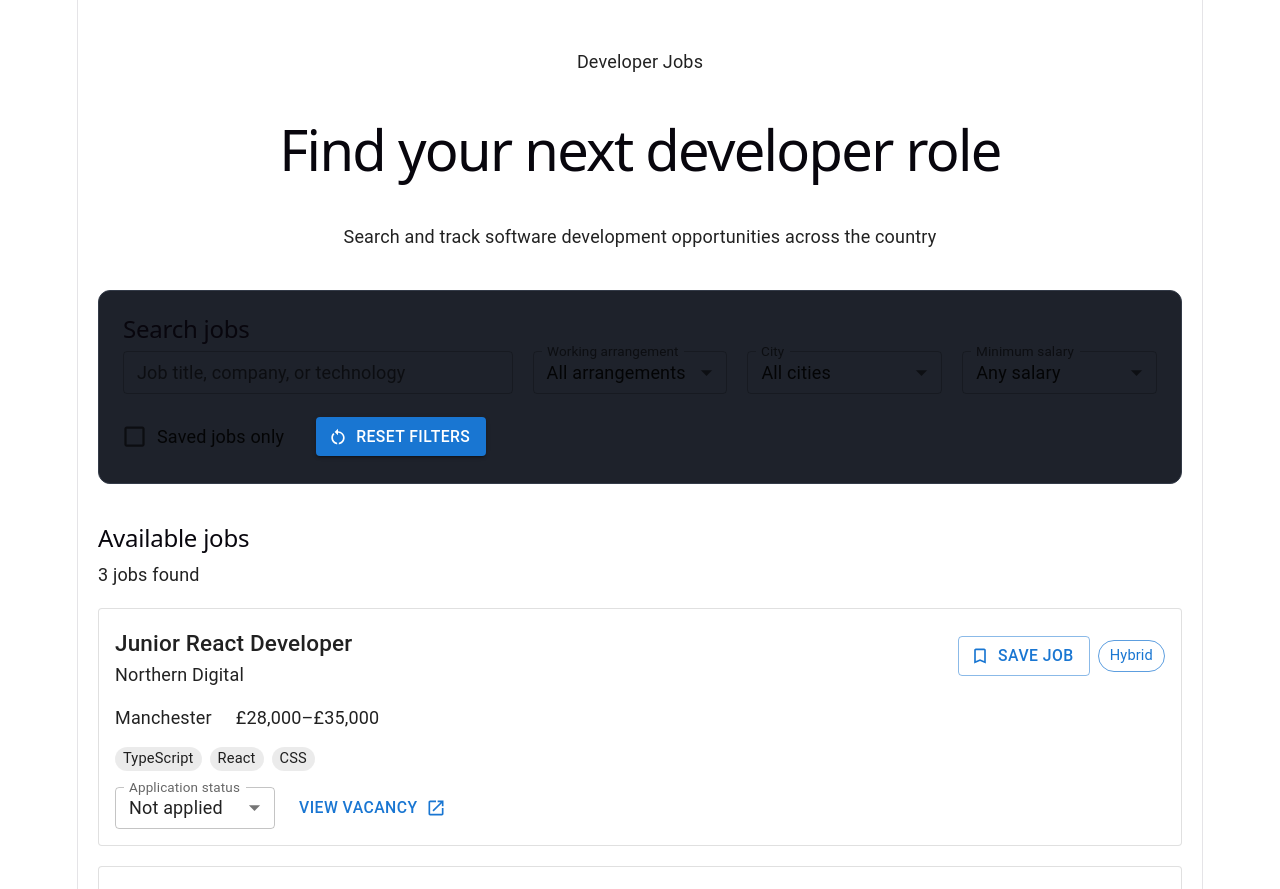
it: App › filters jobs using a keyword
Check: the text "3 jobs found" is shown, box [98,564,200,584]
In the search field labelled "Job title, company, or technology": (318, 373) [123,351,513,394], type "JavaScript"
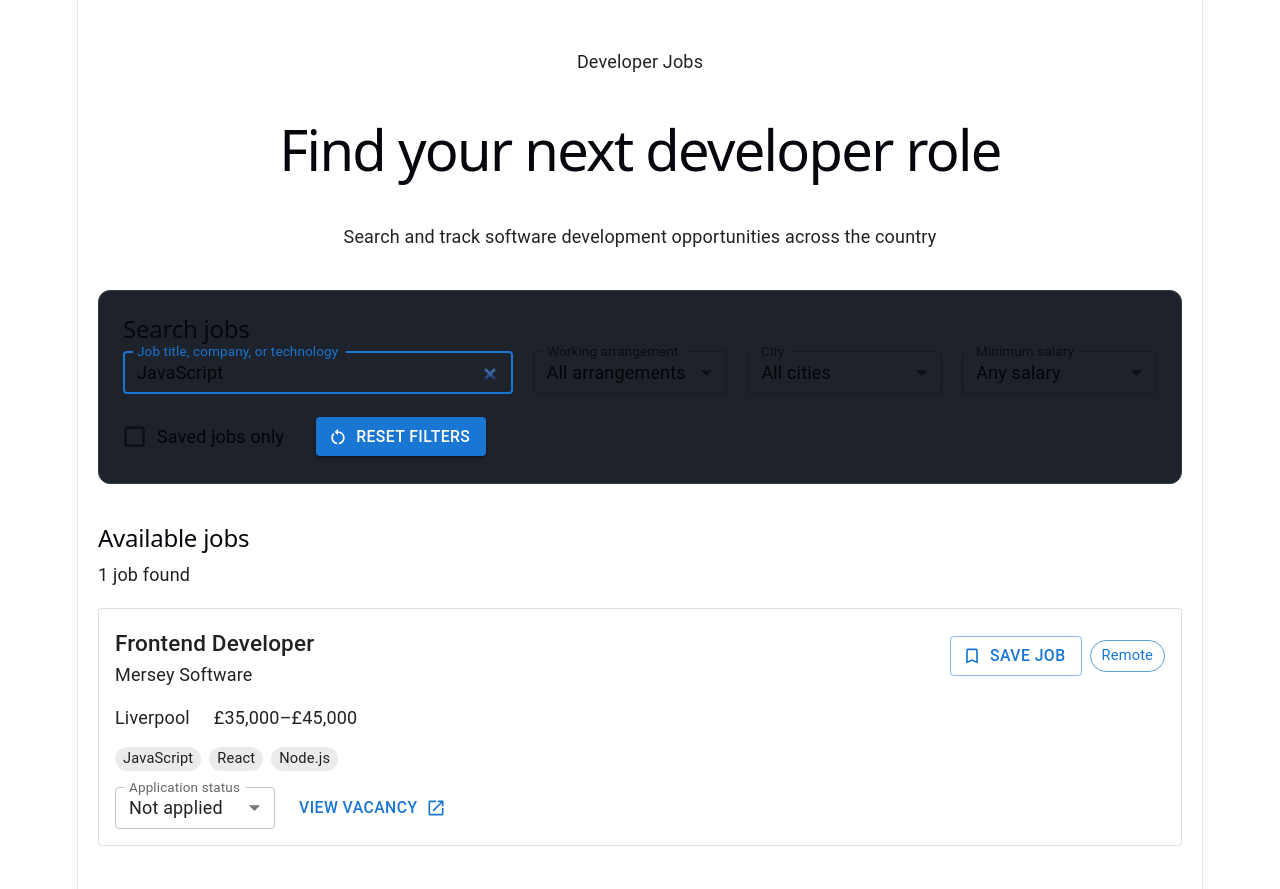
Check: the heading "Frontend Developer" is shown, box [115,624,314,660]
Check: the text "1 job found" is shown, box [98,564,190,584]
Check: the heading "Junior React Developer" is gone
